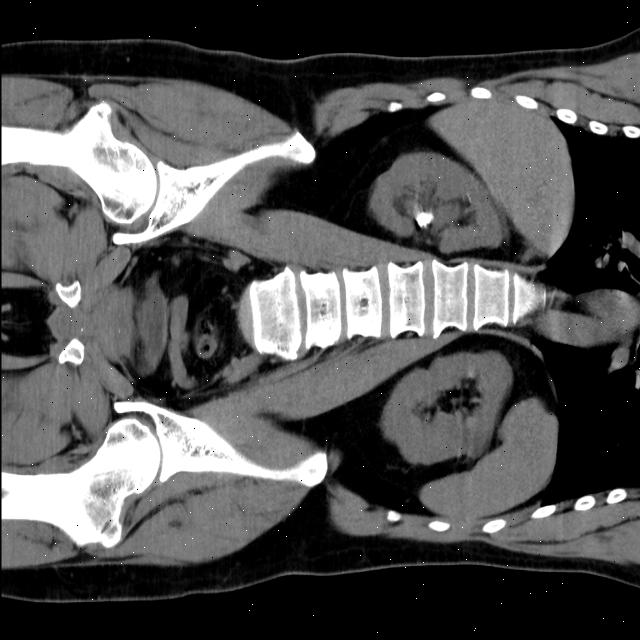kidneystone: (414, 212, 434, 230)
